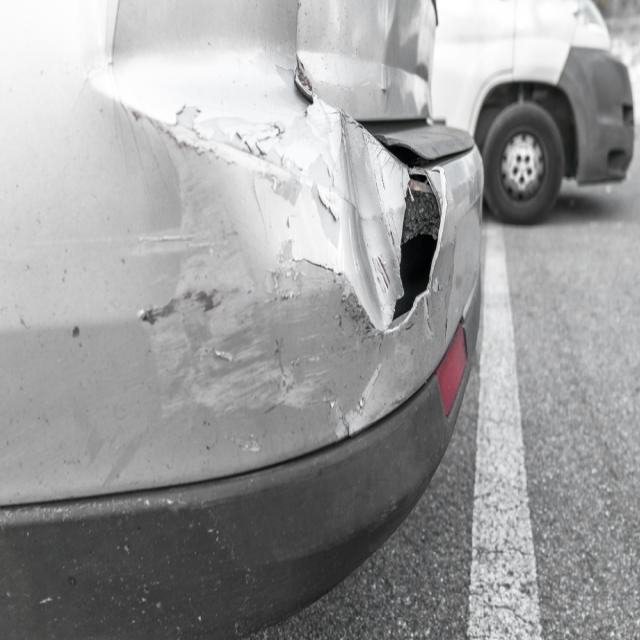crack: (387, 166, 443, 331)
dent: (338, 112, 402, 332)
scratch: (131, 96, 382, 419)
